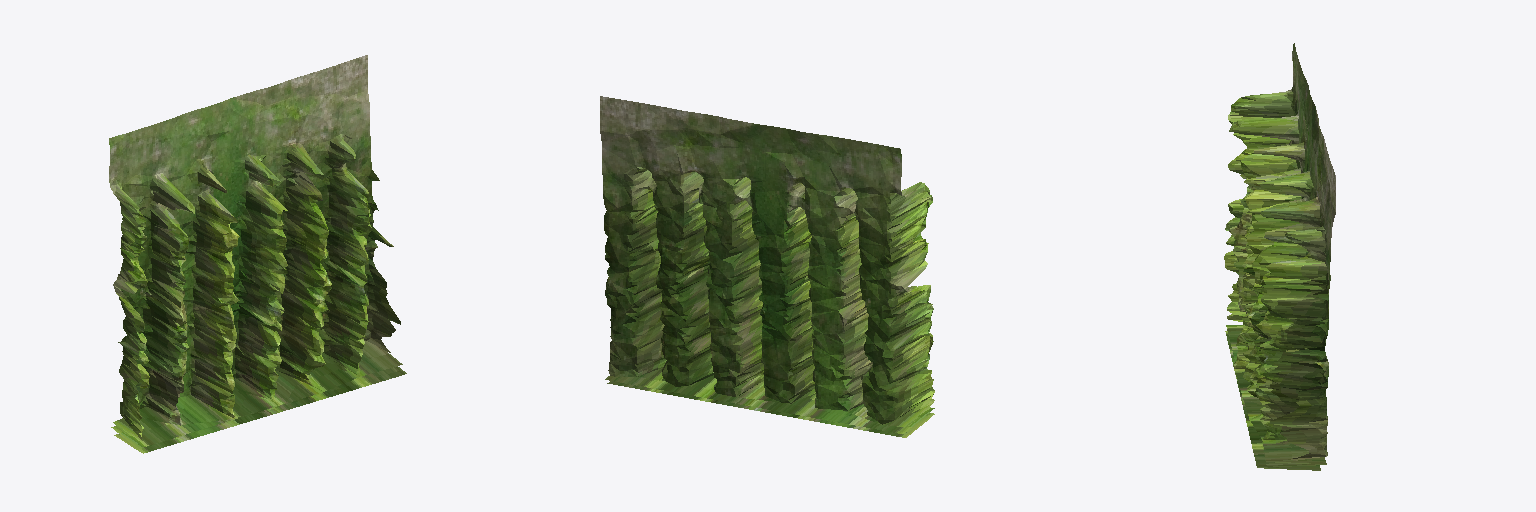
3 renders of one model, left to right at view 1: azimuth 30°, elevation 25°; view 2: azimuth 150°, elevation 25°; view 3: azimuth 270°, elevation 25°, orthographic.
Parts seen in each view (by area): view 1: grp1; view 2: grp1; view 3: grp1.
Part boxes in pixels (bbox=[...]): grp1: bbox=[109, 55, 406, 453]; grp1: bbox=[600, 96, 934, 437]; grp1: bbox=[1224, 43, 1335, 470].
Bounding box in the file's own units: 10 × 10 × 3.49.
Materials: 1 (1 with a texture image).